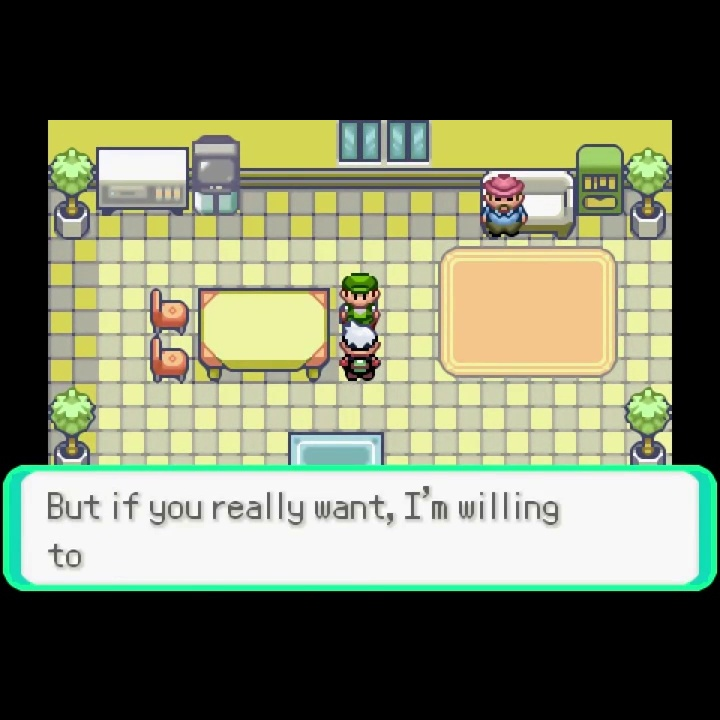agent: (335, 321, 383, 383)
exit: (287, 431, 385, 465)
npc: (480, 173, 531, 241), (339, 272, 381, 325)
